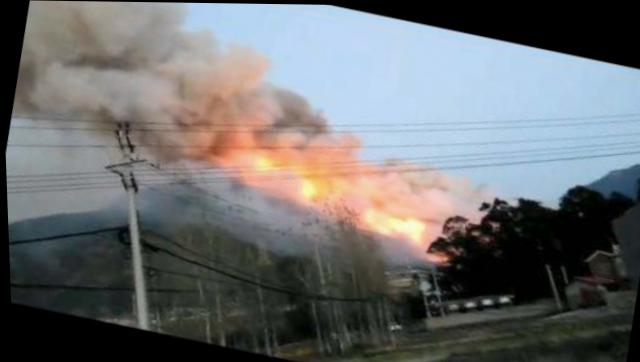fire: (209, 134, 448, 247)
